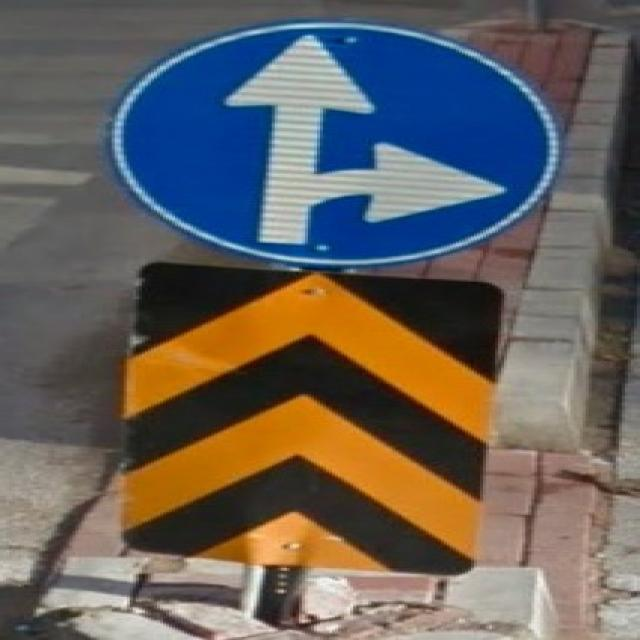Straight or Right: (102, 23, 555, 268)
